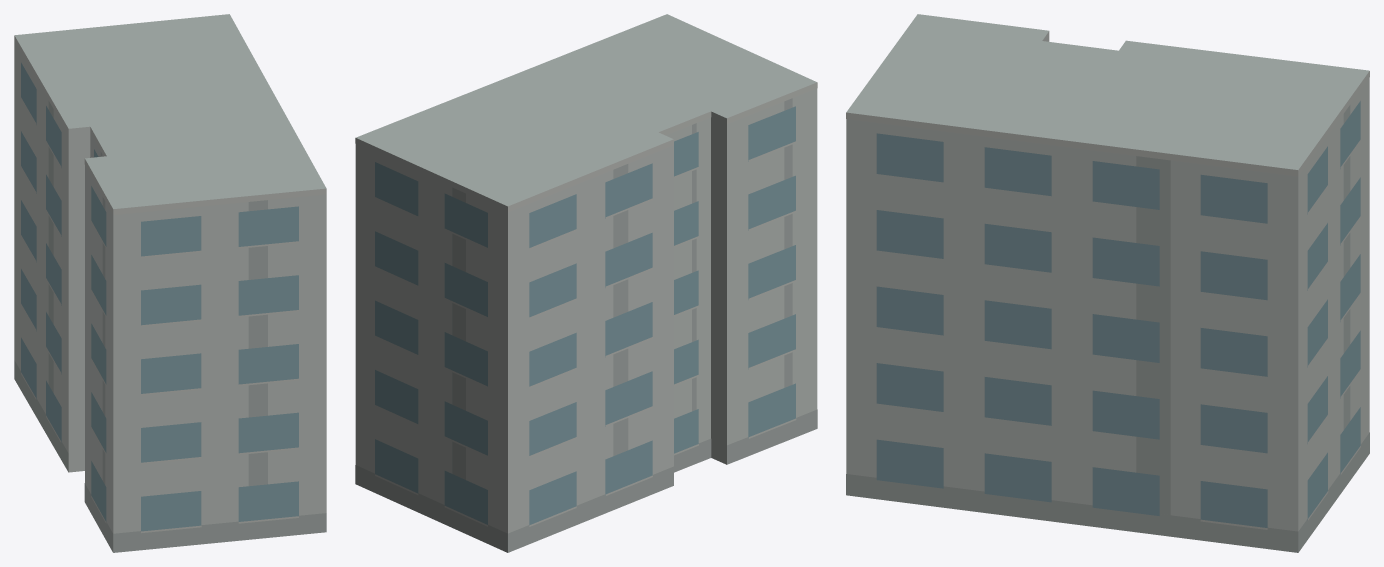
File: survey-upis-32886856.glb
3 views of the same model, side by side, from view 1: azimuth 30°, elevation 25°; view 2: azimuth 150°, elevation 25°; view 3: azimuth 270°, elevation 25° (orthographic). The views are drawn at different scales.
Parts seen in each view (by area): view 1: survey-upis-32886856.tmp; view 2: survey-upis-32886856.tmp; view 3: survey-upis-32886856.tmp.
Part boxes in pixels (x1,y1,x2,y2): survey-upis-32886856.tmp: (14,14,326,552); survey-upis-32886856.tmp: (355,14,817,552); survey-upis-32886856.tmp: (846,14,1369,552).
Bounding box in the file's own units: 12.43 × 14.2 × 17.62.
